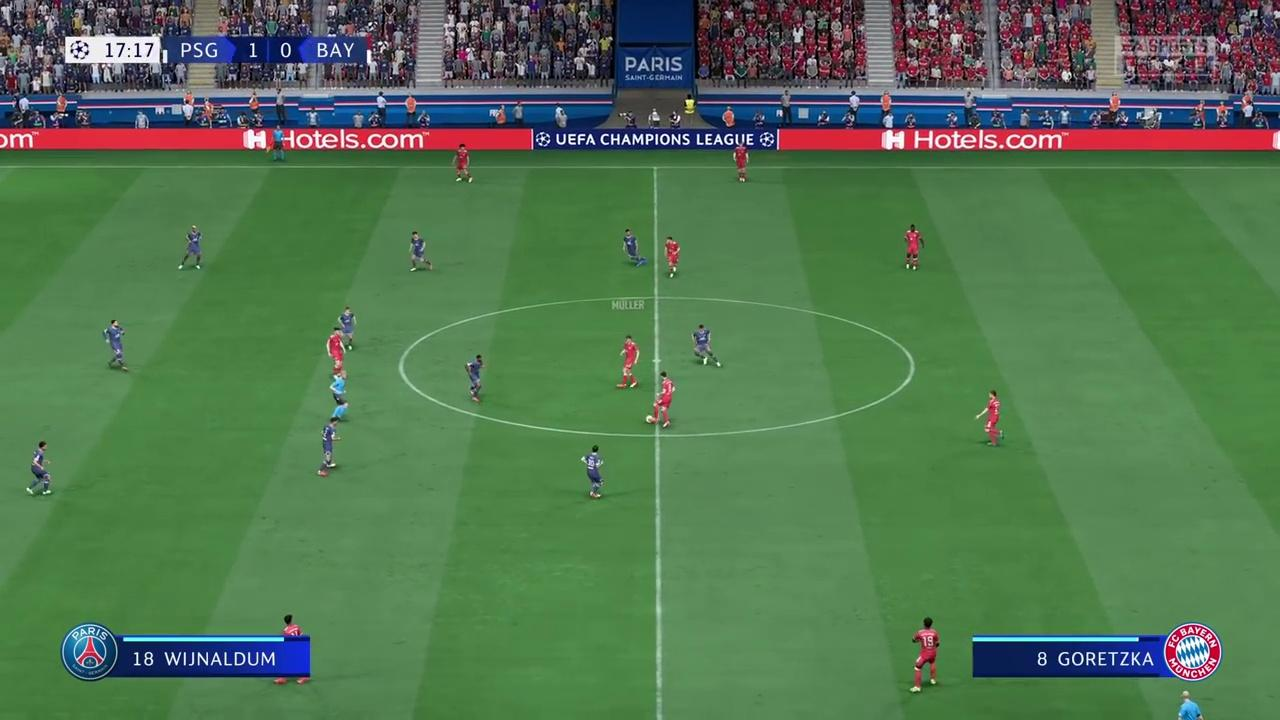scoreboard: (165, 34, 368, 65)
timestamp: (66, 35, 161, 67)
